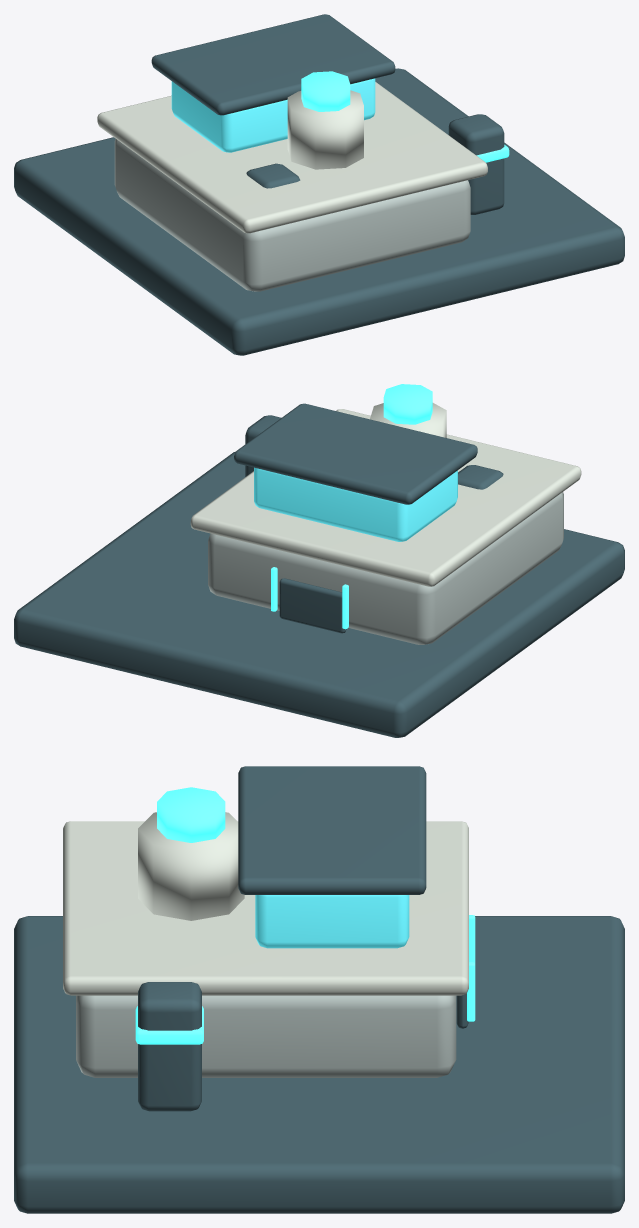
File: research-center.glb
The picture shows the model from 3 angles, top to bottom: view 1: azimuth 30°, elevation 25°; view 2: azimuth 150°, elevation 25°; view 3: azimuth 270°, elevation 25°; orthographic projection. The views are drawn at different scales.
Parts seen in each view (by area): view 1: Research campus foundation, Lab roof, Research wing, Glass hall canopy, Observation glass hall, Quantum core housing, Research sensor tower.002, Quantum core, Research sensor tower; view 2: Research campus foundation, Lab roof, Research wing, Glass hall canopy, Observation glass hall, Entry portal, Quantum core, Quantum core housing, Research sensor tower, Research sensor tower.002; view 3: Research campus foundation, Lab roof, Research wing, Glass hall canopy, Quantum core housing, Observation glass hall, Research sensor tower.002, Quantum core, Sensor light band.002.
Part boxes in pixels (left/top/right/bottom): Research campus foundation: left=14, top=68, right=624, bottom=355; Lab roof: left=97, top=82, right=487, bottom=233; Research wing: left=114, top=138, right=470, bottom=291; Glass hall canopy: left=151, top=14, right=395, bottom=115; Observation glass hall: left=171, top=78, right=375, bottom=152; Quantum core housing: left=287, top=90, right=363, bottom=169; Research sensor tower.002: left=448, top=114, right=504, bottom=214; Quantum core: left=301, top=71, right=350, bottom=111; Research sensor tower: left=246, top=163, right=300, bottom=188; Research campus foundation: left=14, top=451, right=624, bottom=737; Lab roof: left=190, top=409, right=581, bottom=586; Research wing: left=208, top=492, right=563, bottom=644; Glass hall canopy: left=234, top=403, right=477, bottom=504; Observation glass hall: left=254, top=467, right=457, bottom=541; Entry portal: left=279, top=578, right=346, bottom=633; Quantum core: left=383, top=384, right=432, bottom=424; Quantum core housing: left=370, top=403, right=446, bottom=437; Research sensor tower: left=458, top=465, right=503, bottom=489; Research sensor tower.002: left=245, top=415, right=281, bottom=476; Research campus foundation: left=14, top=916, right=624, bottom=1213; Lab roof: left=63, top=821, right=468, bottom=995; Research wing: left=76, top=995, right=456, bottom=1077; Glass hall canopy: left=238, top=766, right=426, bottom=894; Quantum core housing: left=138, top=812, right=244, bottom=920; Observation glass hall: left=255, top=895, right=409, bottom=948; Research sensor tower.002: left=138, top=982, right=201, bottom=1111; Quantum core: left=157, top=787, right=225, bottom=842; Sensor light band.002: left=135, top=1006, right=203, bottom=1044.
Bounding box in the file's own units: 2.86 × 1.35 × 2.86.
